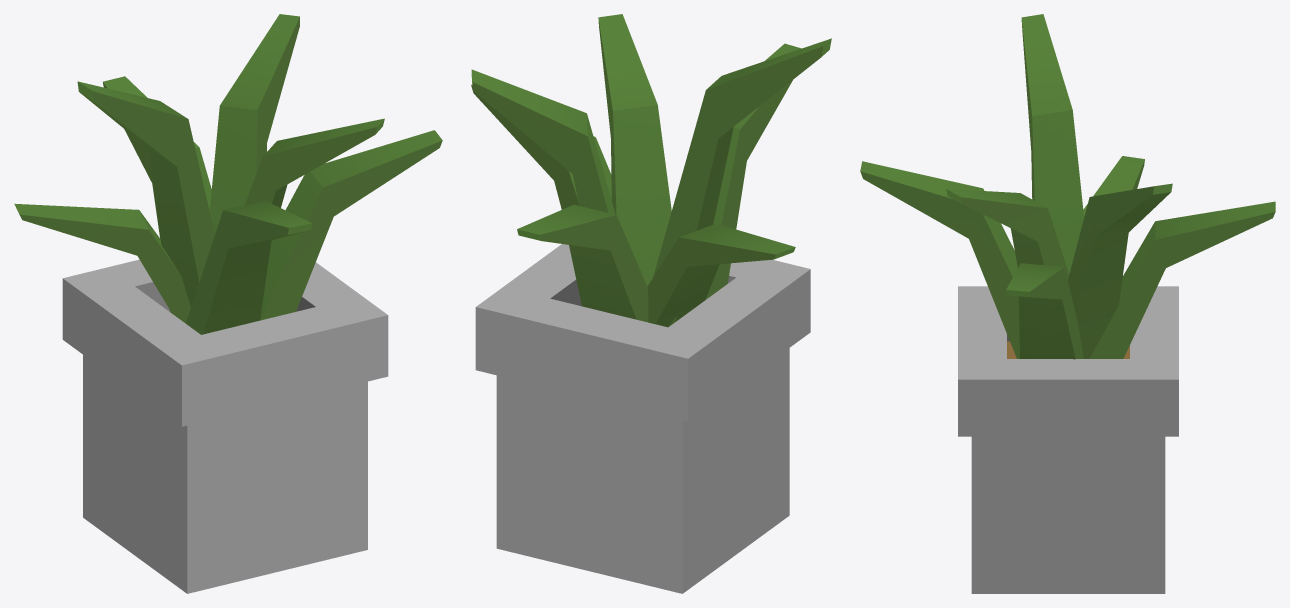
Rendered from Plant2.glb.
The picture shows the model from 3 angles, left to right: view 1: azimuth 30°, elevation 25°; view 2: azimuth 150°, elevation 25°; view 3: azimuth 270°, elevation 25°; orthographic projection. The views are drawn at different scales.
Parts seen in each view (by area): view 1: SI_Prop_Plant_02; view 2: SI_Prop_Plant_02; view 3: SI_Prop_Plant_02.
Boxes of the visible parts, <box> form: SI_Prop_Plant_02: <box>14,14,442,593</box>; SI_Prop_Plant_02: <box>471,14,831,593</box>; SI_Prop_Plant_02: <box>860,14,1275,593</box>.
Bounding box in the file's own units: 0.0147 × 0.0193 × 0.0156.
Materials: 1 (1 with a texture image).
